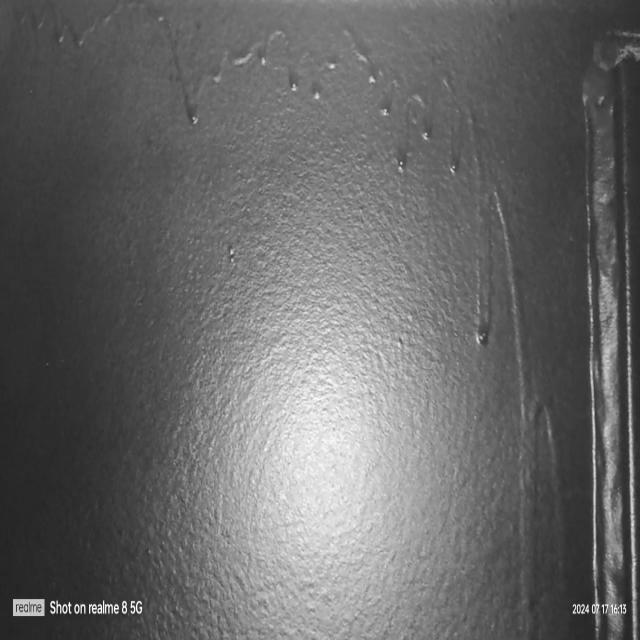paint drips: (9, 0, 471, 183), (464, 101, 586, 640)
